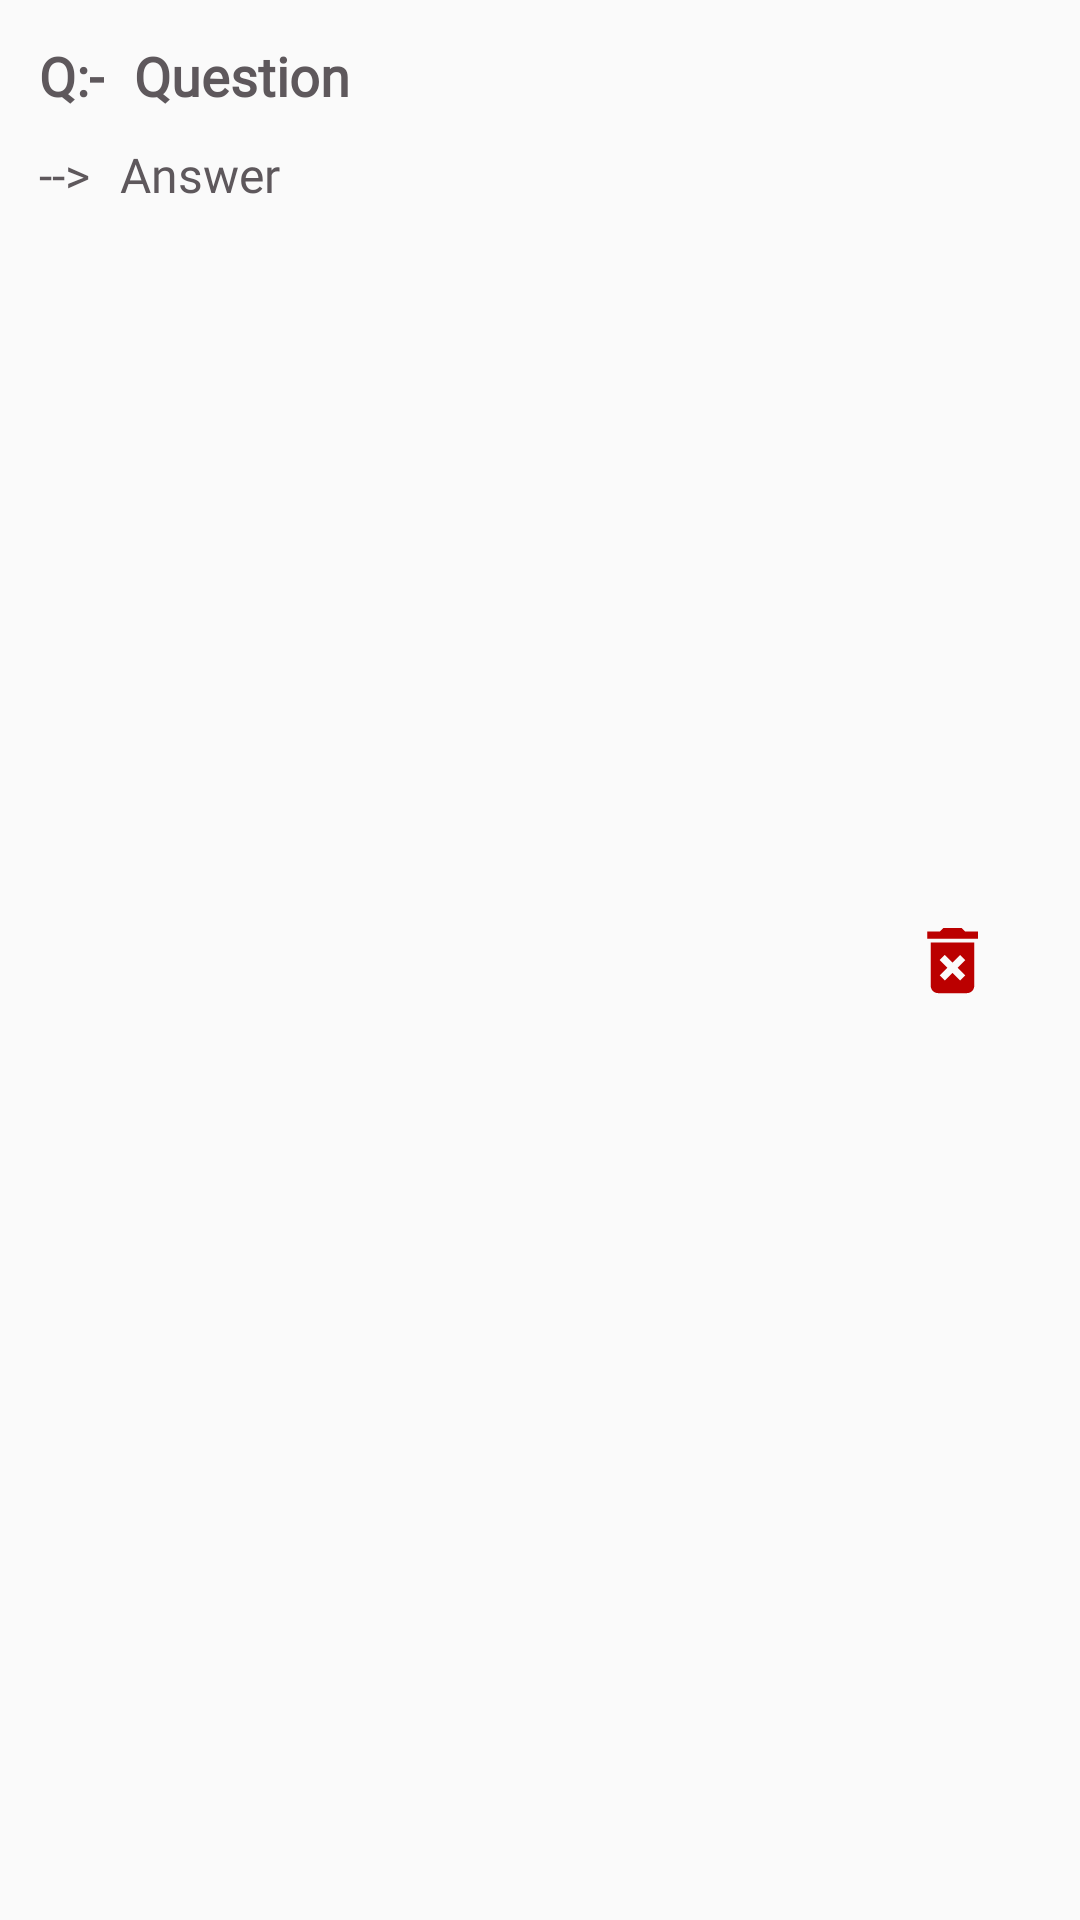

Named icons in this screenshot (1080*1920) and their centers, (x,y):
delete: (952,961)
